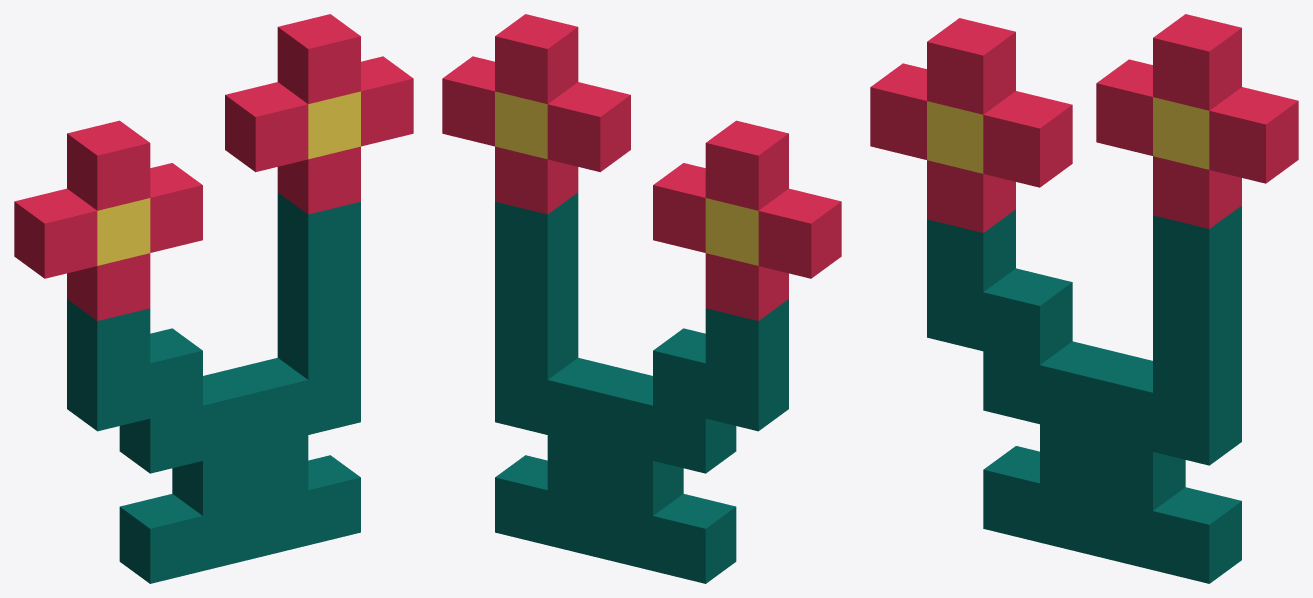
File: flower-01.glb
3 renders of one model, left to right at view 1: azimuth 30°, elevation 25°; view 2: azimuth 150°, elevation 25°; view 3: azimuth 330°, elevation 25°, orthographic. The views are drawn at different scales.
Parts seen in each view (by area): view 1: generated(Clone); view 2: generated(Clone); view 3: generated(Clone).
Part boxes in pixels (x1,y1,x2,y2): generated(Clone): (14,14,413,583); generated(Clone): (442,14,841,583); generated(Clone): (870,14,1298,583).
Bounding box in the file's own units: 7 × 9 × 1.
1 material, 1 textured.
